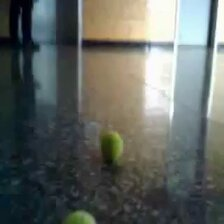tennis: (99, 131, 122, 164)
